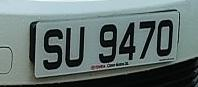0: (153, 15, 175, 61)
4: (119, 16, 137, 65)
7: (138, 15, 157, 63)
9: (97, 20, 119, 64)
S: (40, 23, 64, 75)
U: (62, 22, 89, 73)
